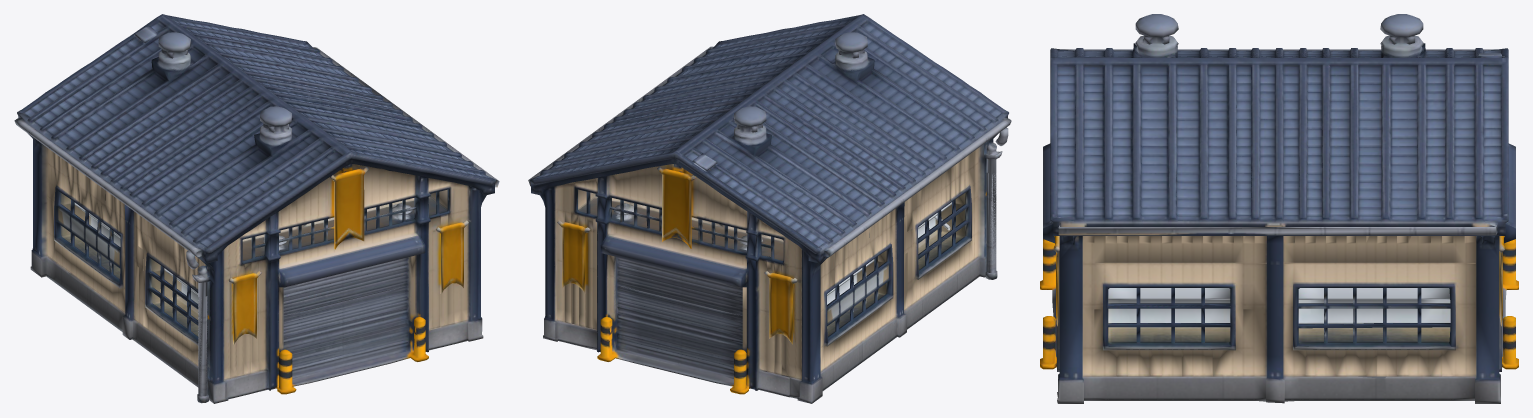
Rendered from building_shutter.glb.
3 renders of one model, left to right at view 1: azimuth 30°, elevation 25°; view 2: azimuth 150°, elevation 25°; view 3: azimuth 270°, elevation 25°, orthographic. The views are drawn at different scales.
Parts seen in each view (by area): view 1: tripo_node_a4d6936b-da19-4eb2-893f-3044286090c9; view 2: tripo_node_a4d6936b-da19-4eb2-893f-3044286090c9; view 3: tripo_node_a4d6936b-da19-4eb2-893f-3044286090c9.
Part boxes in pixels (box(x1,y1,x2,y2)): tripo_node_a4d6936b-da19-4eb2-893f-3044286090c9: box(14, 14, 499, 403); tripo_node_a4d6936b-da19-4eb2-893f-3044286090c9: box(528, 14, 1011, 403); tripo_node_a4d6936b-da19-4eb2-893f-3044286090c9: box(1040, 14, 1518, 403).
Bounding box in the file's own units: 0.8718 × 0.6572 × 0.9792.
1 material, 1 textured.
